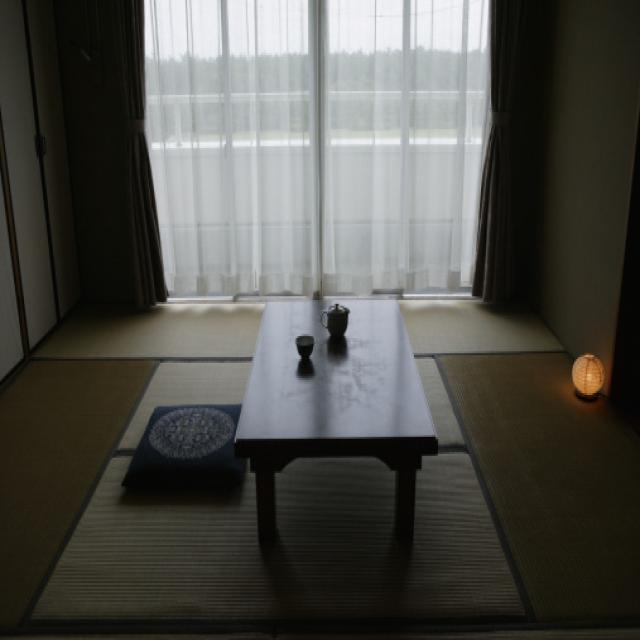Cup: (313, 294, 358, 349), (293, 327, 323, 377)
Table: (238, 280, 451, 597)
